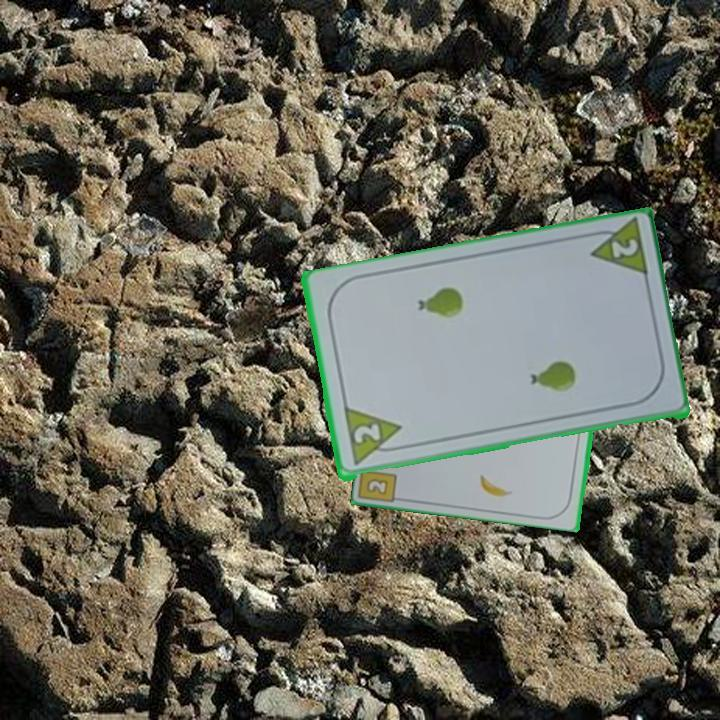2b: (363, 475, 391, 497)
2p: (581, 218, 651, 283), (349, 421, 383, 448)
